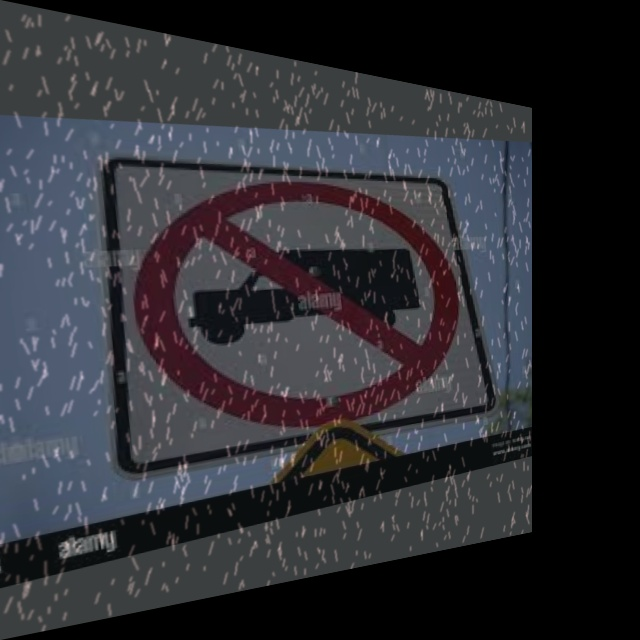Truck_Prohibited: (122, 138, 474, 455)
